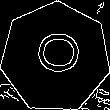O_W: (30, 35, 81, 80)
